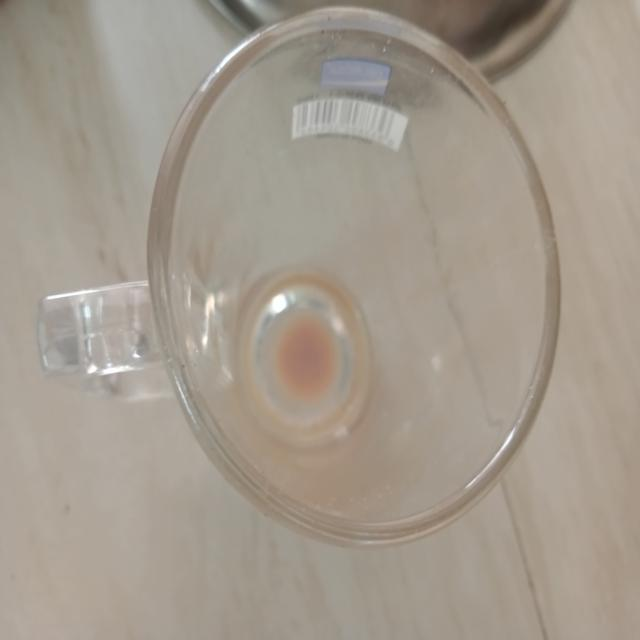glass-VX4N: (39, 0, 563, 556)
